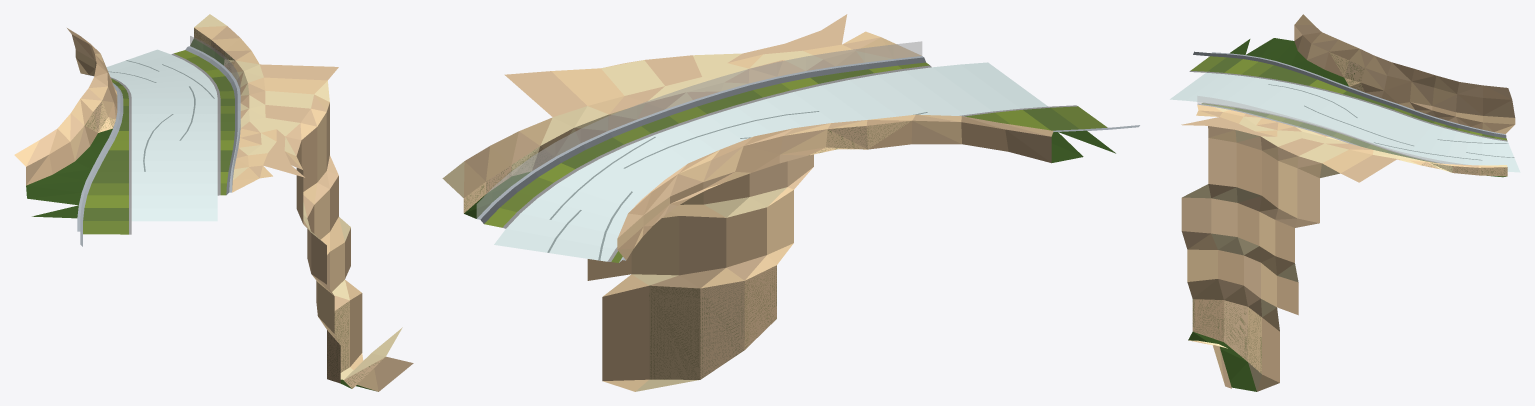
3 renders of one model, left to right at view 1: azimuth 30°, elevation 25°; view 2: azimuth 150°, elevation 25°; view 3: azimuth 270°, elevation 25°, orthographic. The views are drawn at different scales.
Visible parts, largest first — view 1: O1B466; view 2: O1B466; view 3: O1B466.
Boxes of the visible parts, x1,y1,x2,y2 form: O1B466: (14, 14, 413, 391); O1B466: (442, 14, 1139, 391); O1B466: (1170, 14, 1520, 391).
Size of the model in its own units: 150 by 113 by 144.
